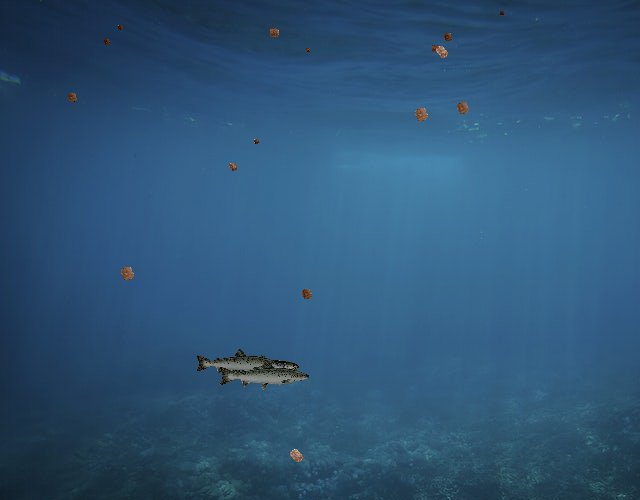Fish: (218, 359, 312, 393), (194, 347, 280, 378), (226, 355, 299, 381)
Pellet: (282, 441, 310, 469), (113, 259, 141, 287), (428, 39, 455, 66), (450, 95, 476, 121), (296, 283, 318, 305), (224, 158, 242, 176), (250, 135, 262, 147)
